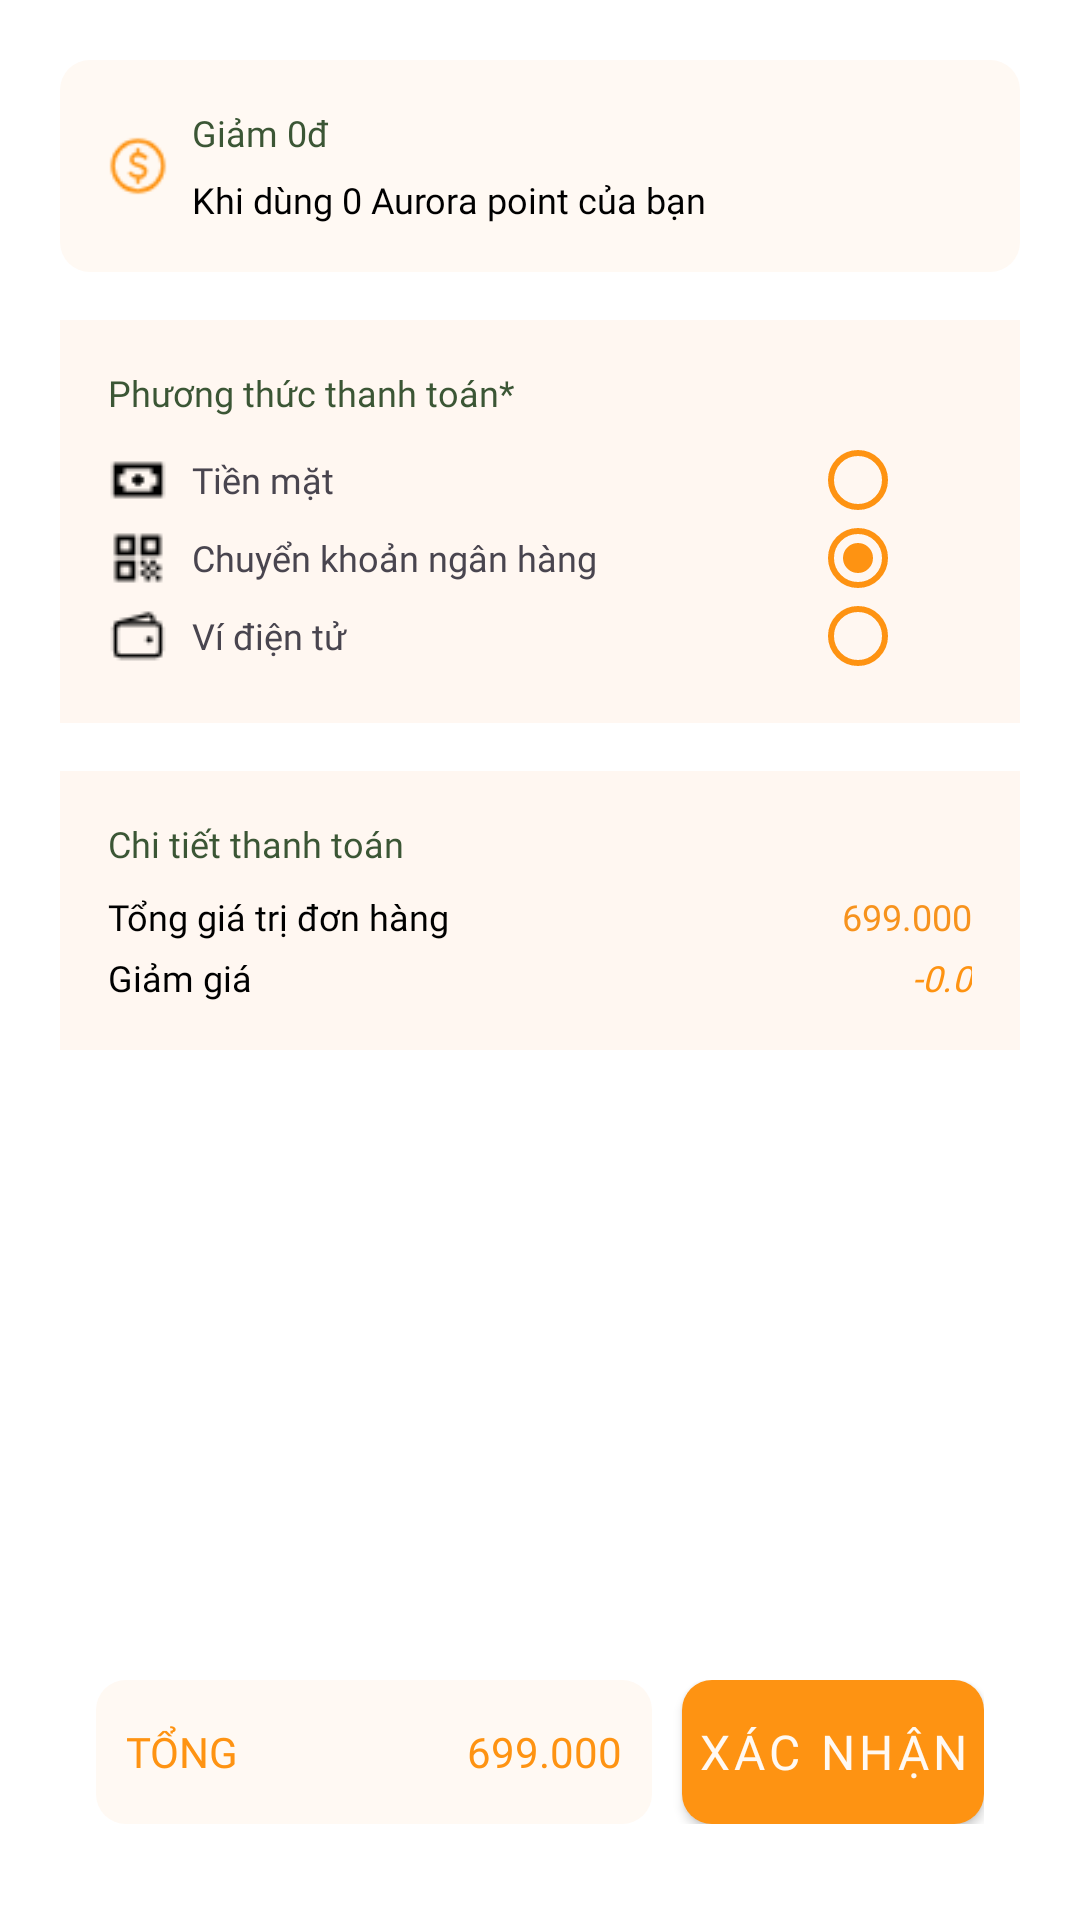

Named icons in this screenshot (1080px×1920px) and their bounding boxes, (x1, y1, x2, y2):
cash: (111, 461, 165, 499)
coin: (110, 138, 166, 194)
wallet: (111, 611, 164, 661)
